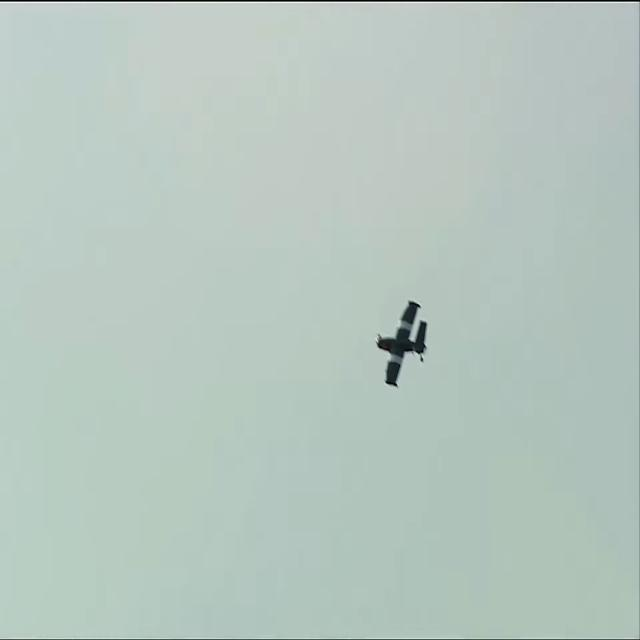iha: (373, 330, 427, 356)
